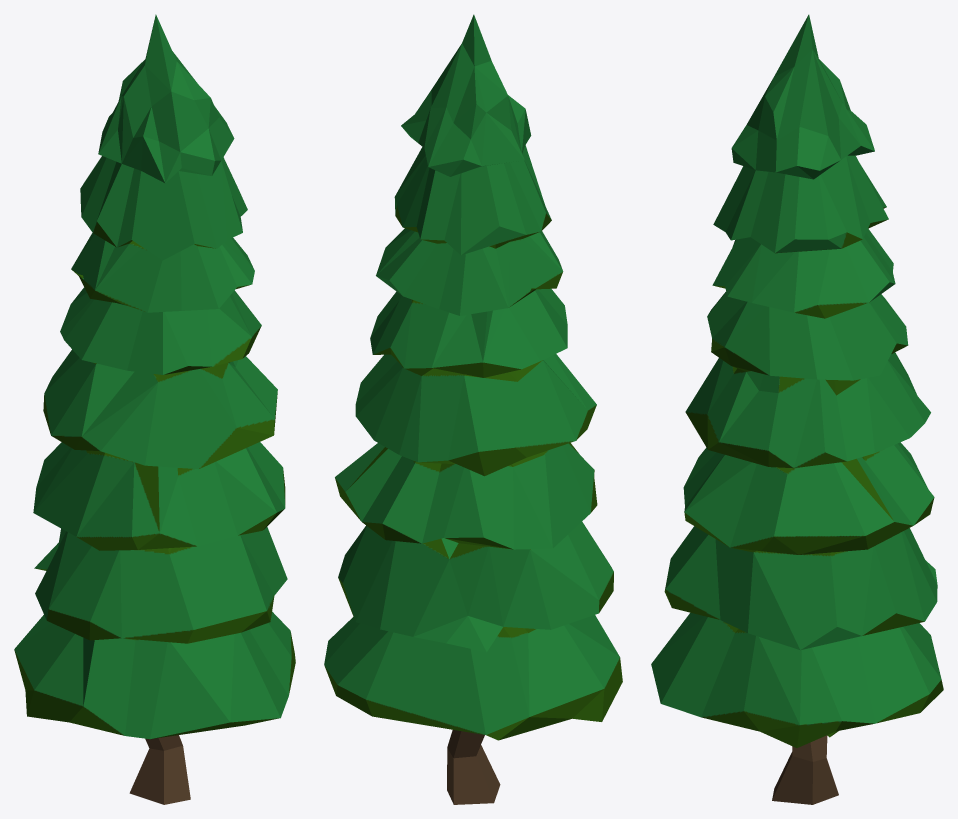
Rendered from tree.glb.
3 views of the same model, side by side, from view 1: azimuth 30°, elevation 25°; view 2: azimuth 150°, elevation 25°; view 3: azimuth 270°, elevation 25° (orthographic).
Parts seen in each view (by area): view 1: node_id28; view 2: node_id28; view 3: node_id28.
Boxes of the visible parts, x1,y1,x2,y2 form: node_id28: [14, 14, 295, 804]; node_id28: [324, 14, 622, 804]; node_id28: [651, 14, 943, 804].
Size of the model in its own units: 0.1145 by 0.3254 by 0.1108.
Materials: 1 (1 with a texture image).
